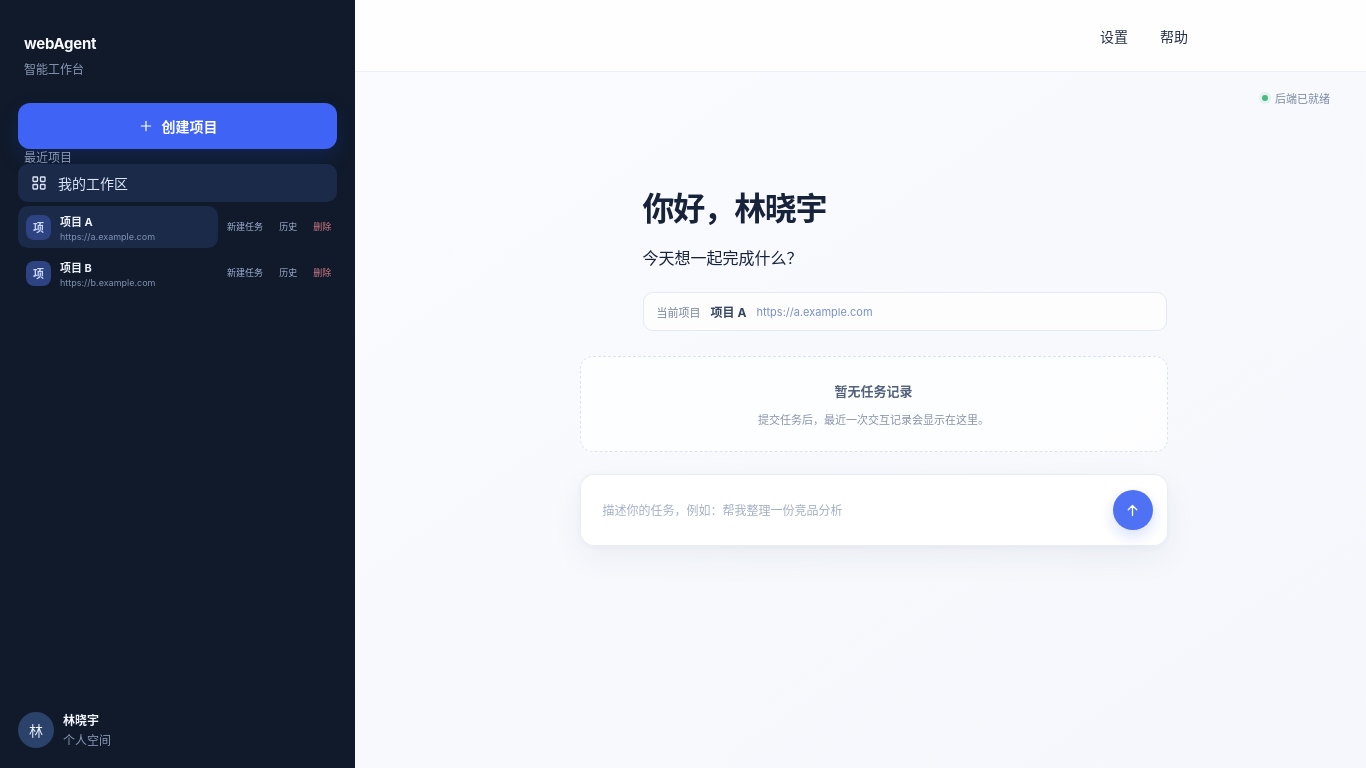
desktop run workspace › confirms project deletion, removes its local state, and selects the next project
Click the button with aria-label "删除项目 项目 A" at (322, 227), box [307,212,337,242]
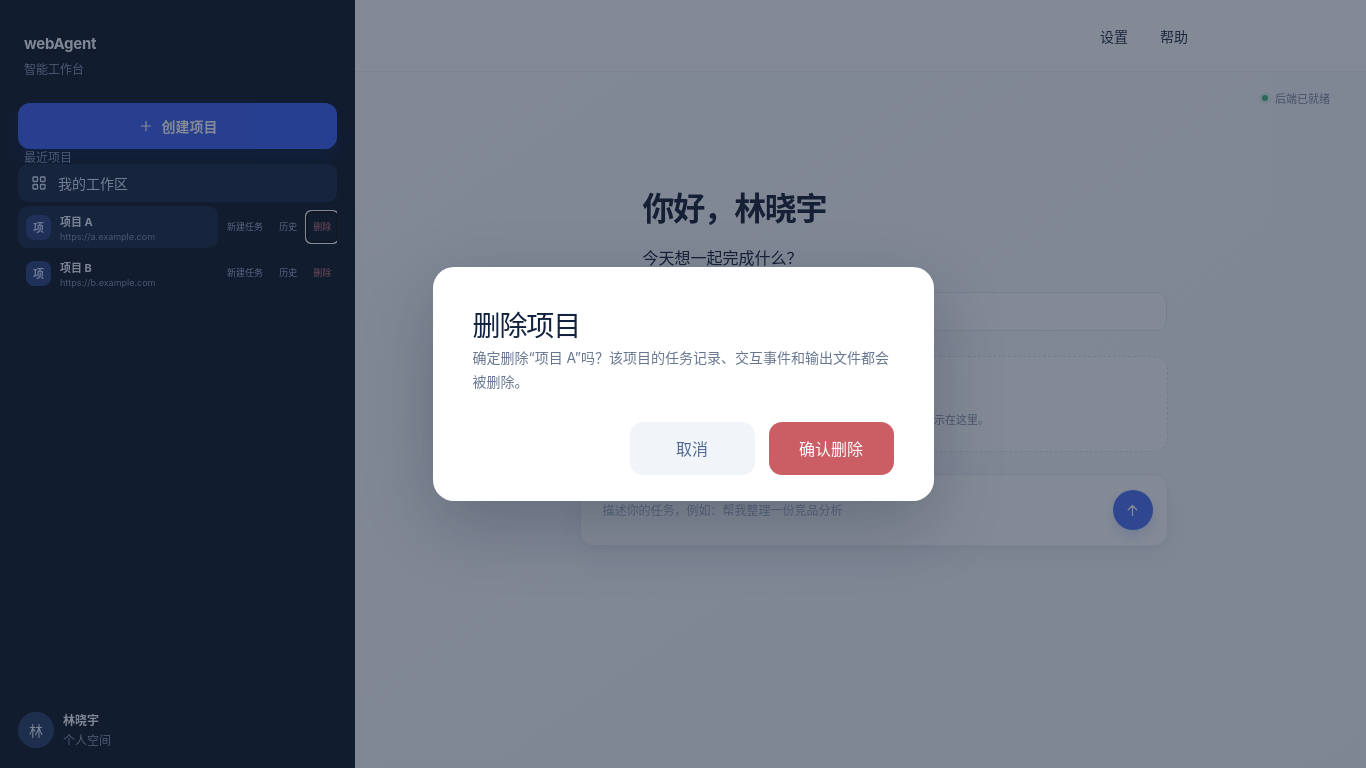
Check: the dialog "删除项目" is shown, box [432,267,934,501]
Click the button "确认删除" at (831, 448), box [768,422,894,475]
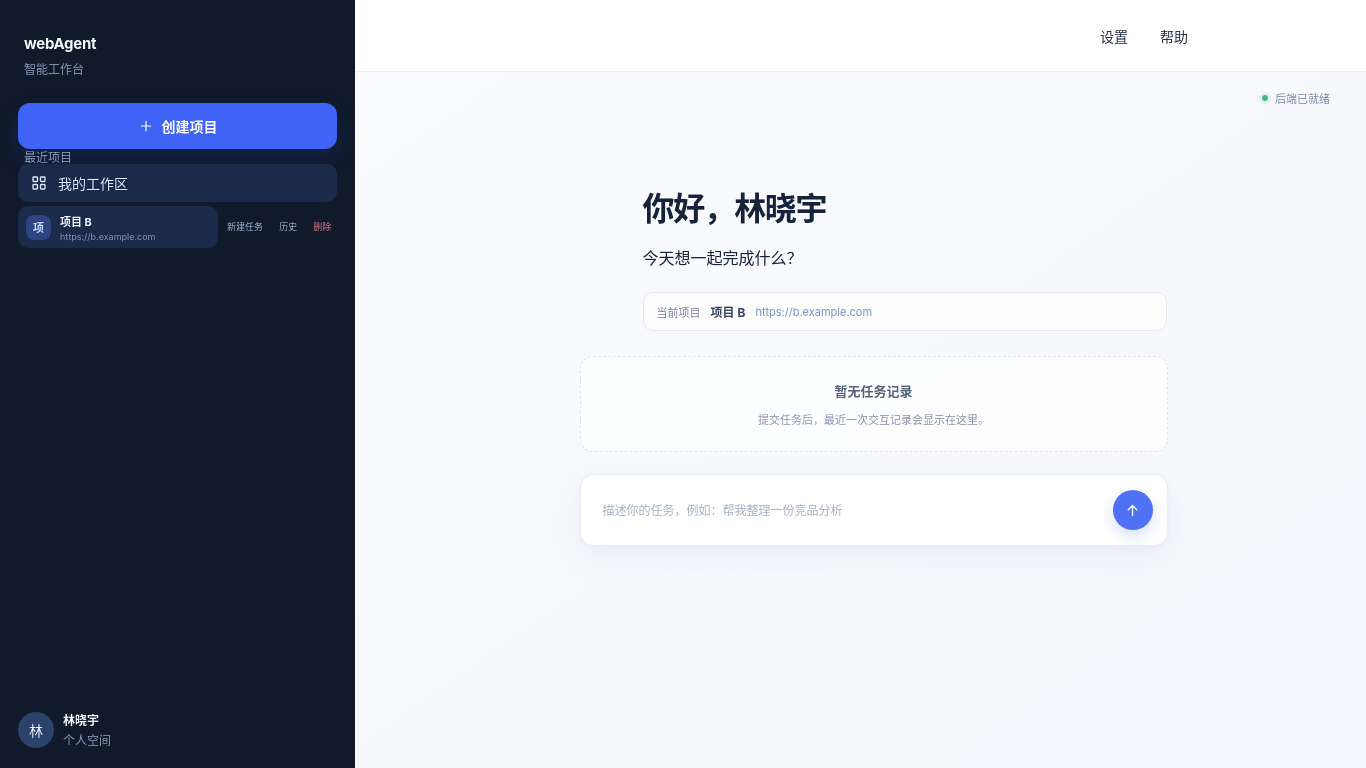
Check: the button with aria-label "项目 项目 B" is shown, box [18,206,218,248]
Check: the button "项目 项目 A" is gone
Check: the element named "当前项目：项目 B" is shown, box [643,292,1167,331]
